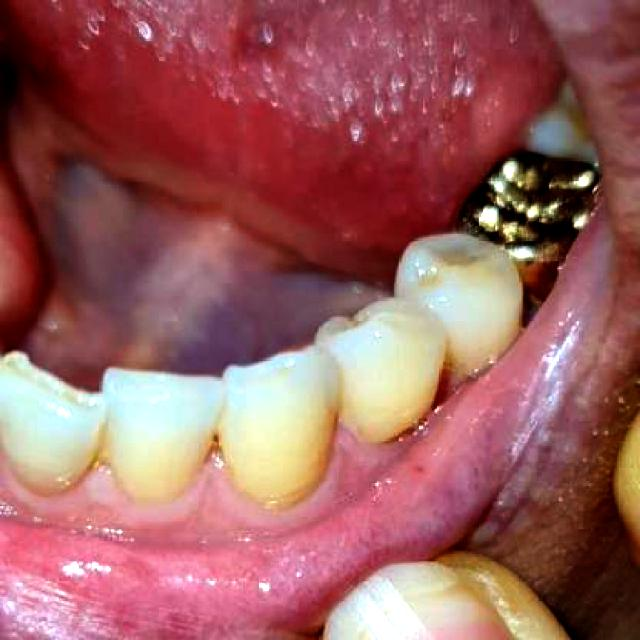Plaque: (72, 440, 251, 523)
